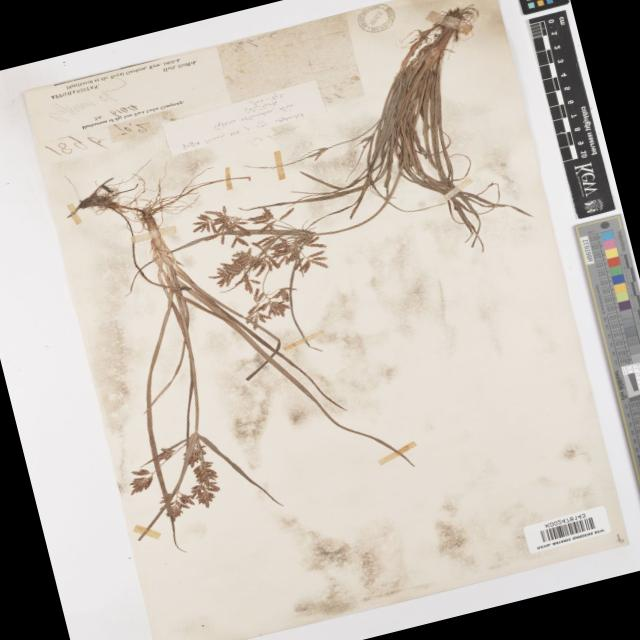cyperus: (175, 178, 346, 348), (102, 414, 276, 565)
